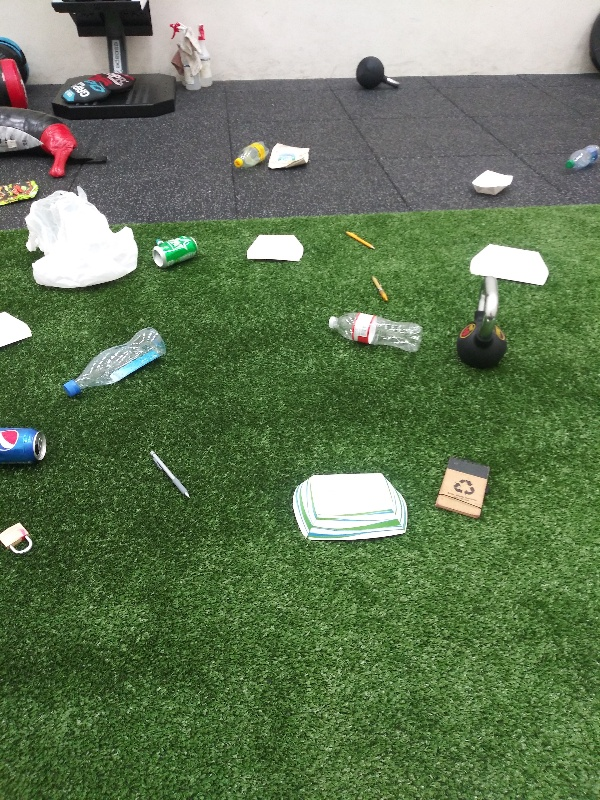bag: (263, 139, 317, 175), (1, 175, 41, 209)
bottle: (57, 322, 171, 401), (322, 308, 425, 359), (229, 135, 272, 173), (562, 140, 600, 174)
can: (1, 423, 50, 471), (148, 231, 203, 271)
plate: (287, 467, 414, 546), (466, 241, 553, 290), (241, 230, 308, 265), (467, 166, 517, 200), (1, 307, 38, 351)
